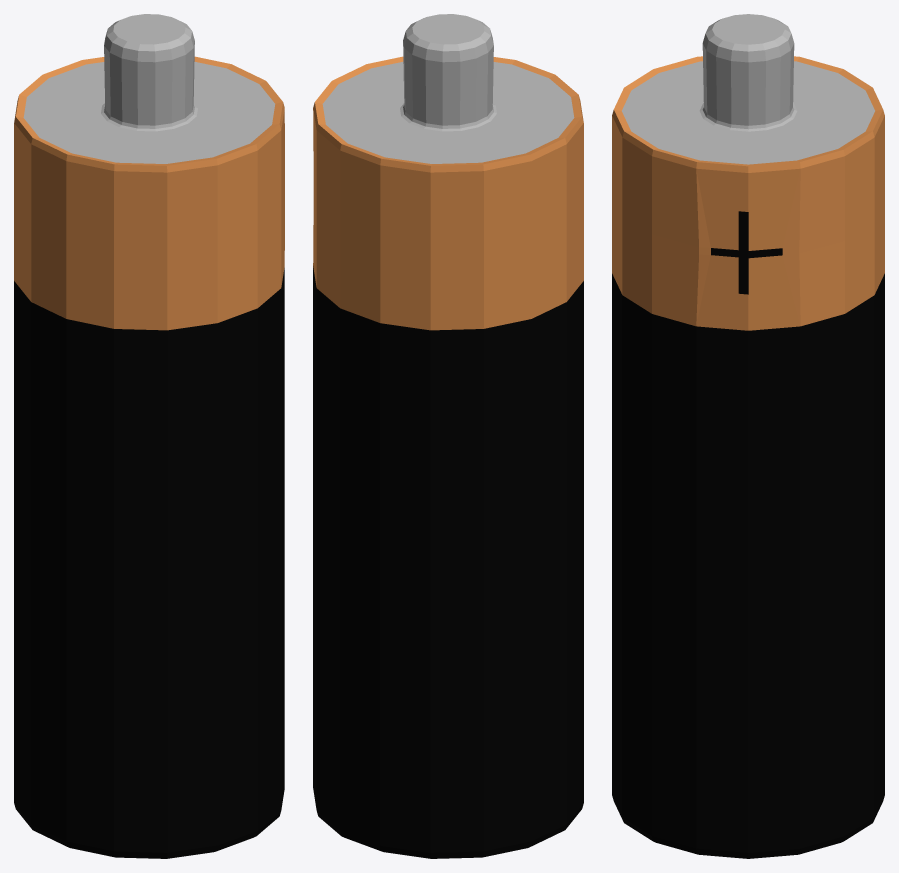
The model's file is pil.fbx.
3 views of the same model, side by side, from view 1: azimuth 30°, elevation 25°; view 2: azimuth 150°, elevation 25°; view 3: azimuth 270°, elevation 25° (orthographic).
Visible parts, largest first — view 1: Cylinder; view 2: Cylinder; view 3: Cylinder.
Boxes of the visible parts, left/top/right/bottom form: Cylinder: left=14, top=14, right=284, bottom=858; Cylinder: left=313, top=14, right=583, bottom=858; Cylinder: left=612, top=14, right=884, bottom=858.
Bounding box in the file's own units: 1.22 × 3.81 × 1.22.
